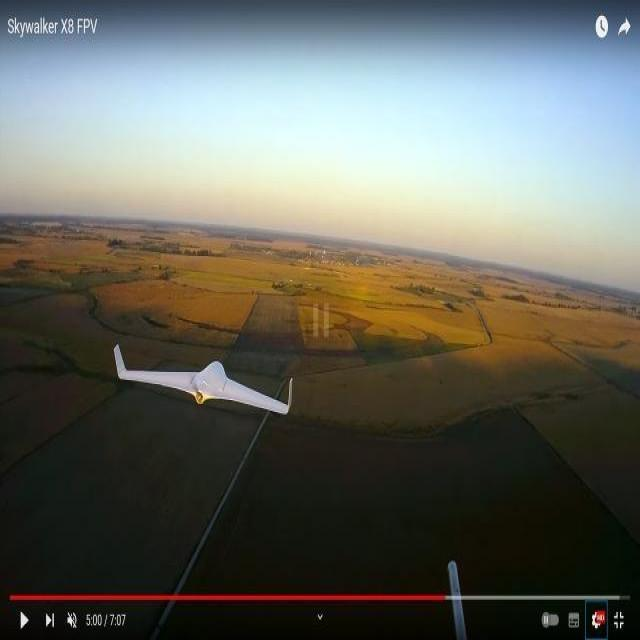Airplane: (108, 338, 301, 424)
